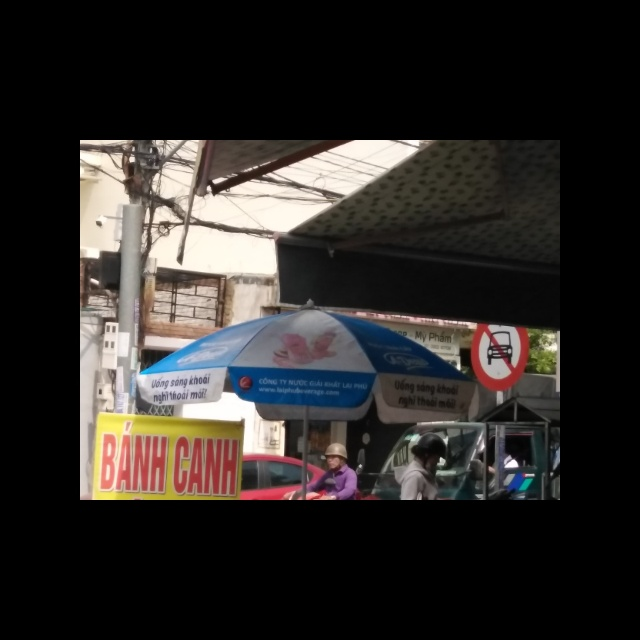Cấm xe ô tô: (467, 321, 530, 390)
